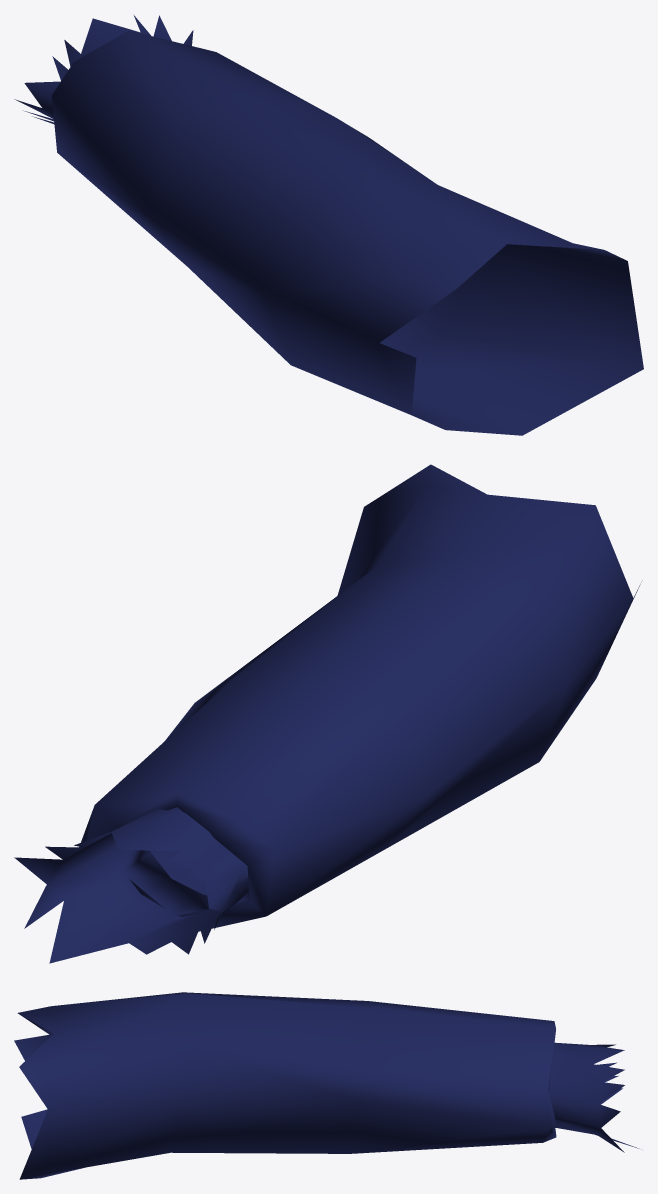
Rendered from shank_l.obj.
3 renders of one model, top to bottom at view 1: azimuth 30°, elevation 25°; view 2: azimuth 150°, elevation 25°; view 3: azimuth 270°, elevation 25°, orthographic. The views are drawn at different scales.
Bounding box in the file's own units: 0.1672 × 0.1226 × 0.4377.
